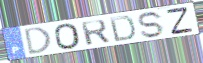D: (24, 26, 53, 57), (108, 15, 137, 43)
O: (53, 22, 83, 50)
R: (79, 19, 112, 47)
S: (137, 11, 166, 40)
Z: (164, 6, 195, 36)
